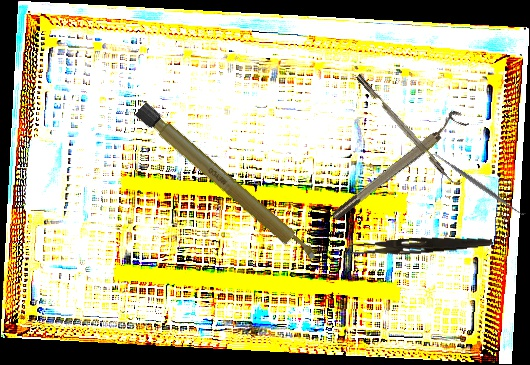Chopper: (355, 69, 464, 190)
Dressing Forceps: (349, 231, 493, 260)
Fixation Ring: (325, 107, 470, 223)
Scalpel Handle: (134, 101, 320, 267)
Spatula Surgical: (427, 146, 528, 222)
